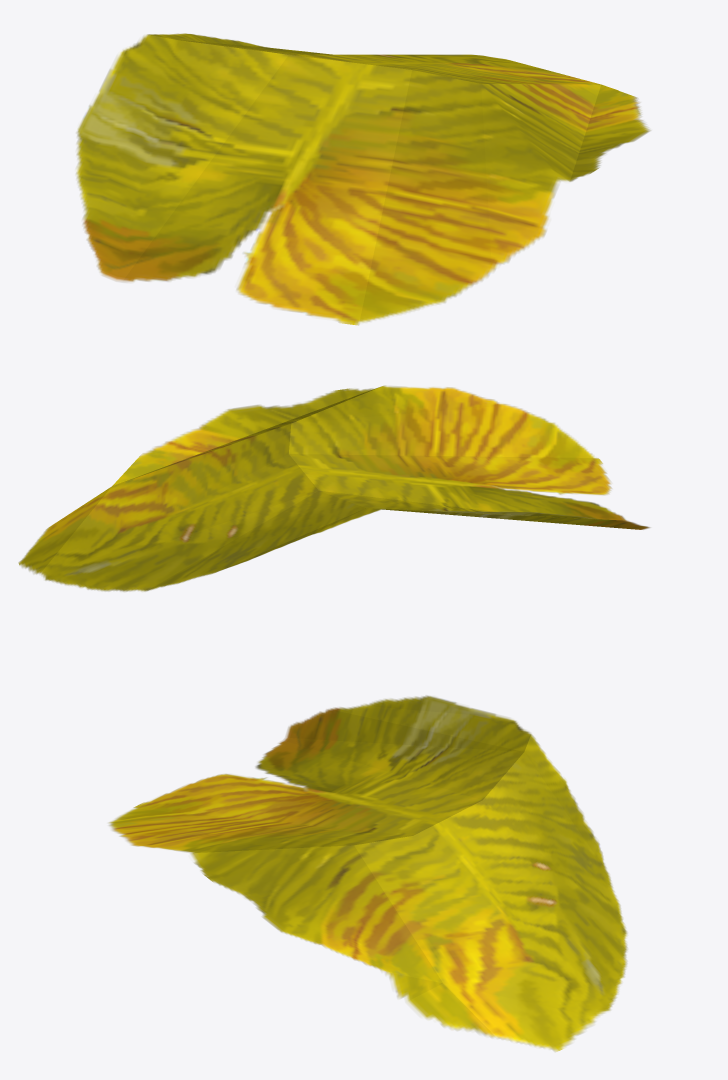
Rendered from BSPlant_1_Leaf_3.gltf.
The picture shows the model from 3 angles, top to bottom: view 1: azimuth 30°, elevation 25°; view 2: azimuth 150°, elevation 25°; view 3: azimuth 270°, elevation 25°; orthographic projection. The views are drawn at different scales.
Parts seen in each view (by area): view 1: BSPlant_1_Leaf_3; view 2: BSPlant_1_Leaf_3; view 3: BSPlant_1_Leaf_3.
Part boxes in pixels (x1,y1,x2,y2): BSPlant_1_Leaf_3: (76,33,650,325); BSPlant_1_Leaf_3: (18,385,650,591); BSPlant_1_Leaf_3: (108,695,627,1051).
Bounding box in the file's own units: 2.54 × 0.5756 × 2.49.
Materials: 1 (1 with a texture image).
